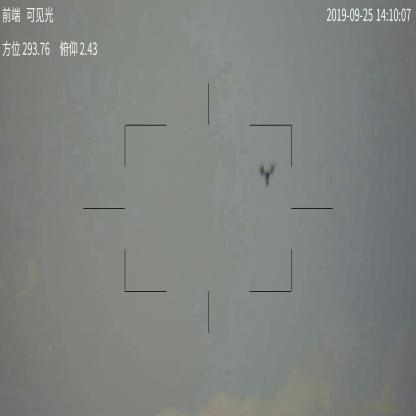uav: (259, 162, 276, 186)
